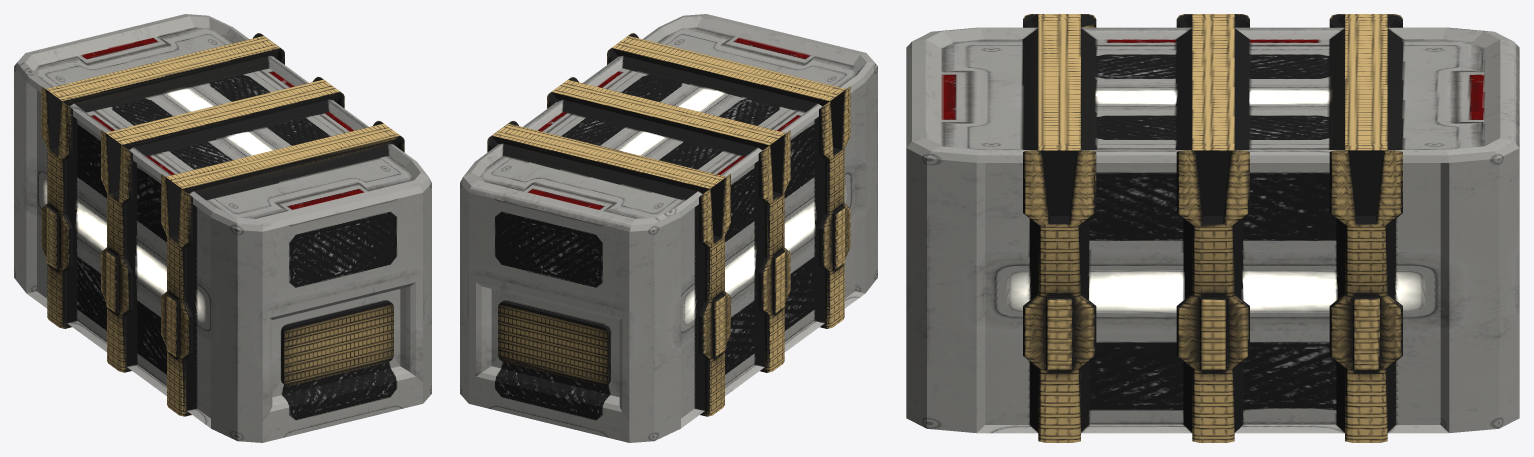
The model's file is crate.fbx.
3 views of the same model, side by side, from view 1: azimuth 30°, elevation 25°; view 2: azimuth 150°, elevation 25°; view 3: azimuth 270°, elevation 25° (orthographic). The views are drawn at different scales.
Parts seen in each view (by area): view 1: Cube; view 2: Cube; view 3: Cube.
Part boxes in pixels (x1,y1,x2,y2): Cube: [14, 14, 431, 442]; Cube: [460, 14, 877, 442]; Cube: [906, 14, 1519, 442].
Bounding box in the file's own units: 216 × 210 × 398.
